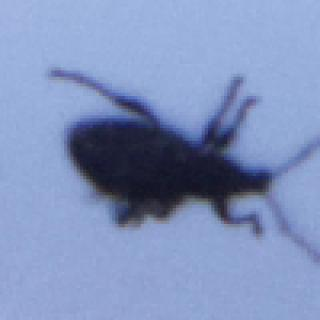bvw: (49, 68, 319, 262)
